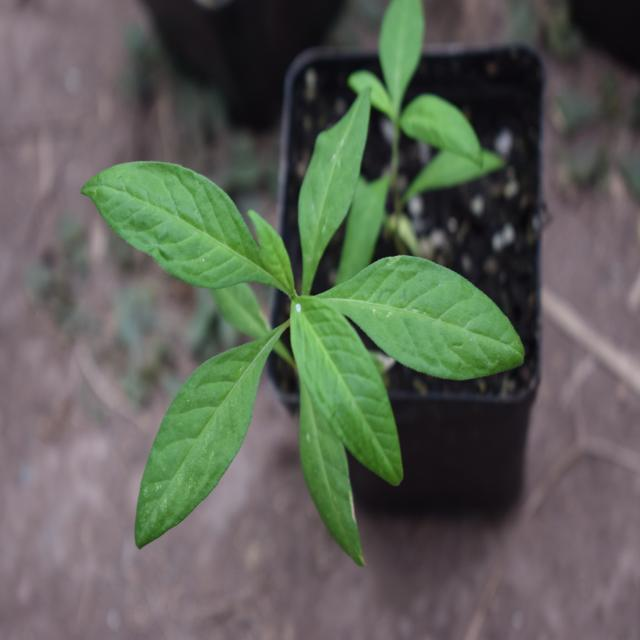white_smart_weed: (109, 130, 507, 564)
